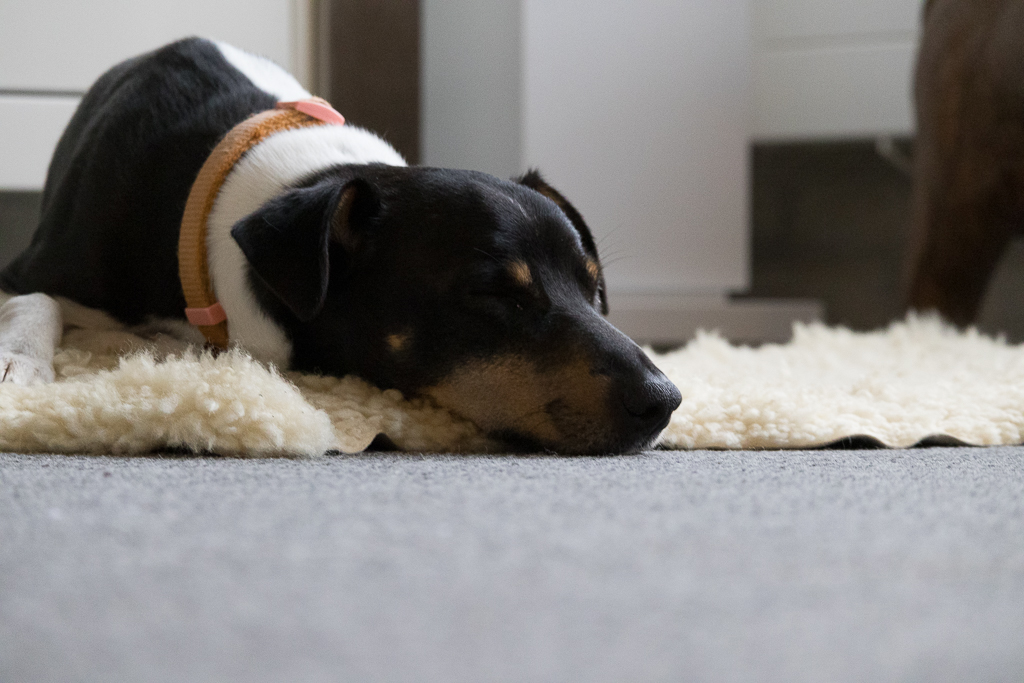Cattle: (866, 0, 1024, 353)
Dog: (0, 29, 691, 464)
